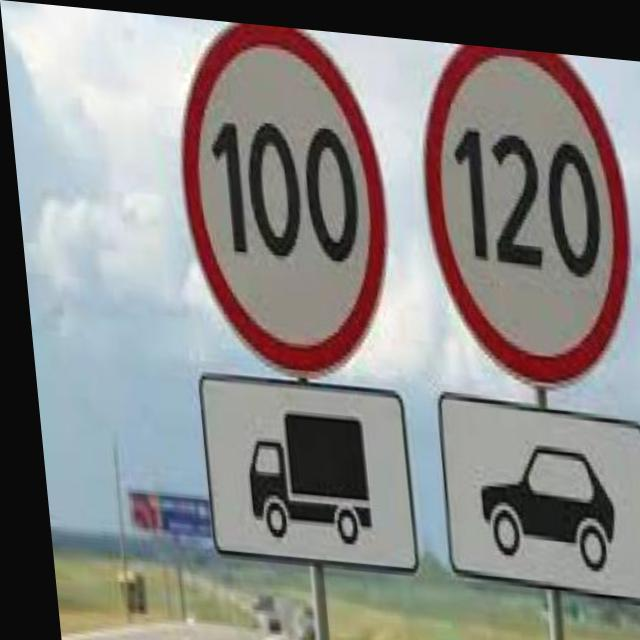limit100: (149, 12, 410, 387)
limit120: (407, 31, 639, 392)
